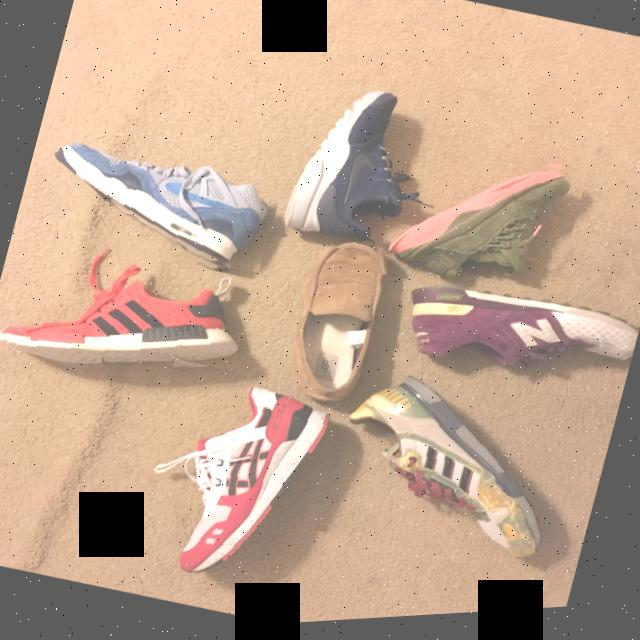shoe: (306, 351, 590, 596), (119, 353, 337, 612), (0, 219, 270, 419), (28, 118, 286, 296), (367, 124, 589, 324), (391, 257, 640, 425), (266, 61, 440, 271)
